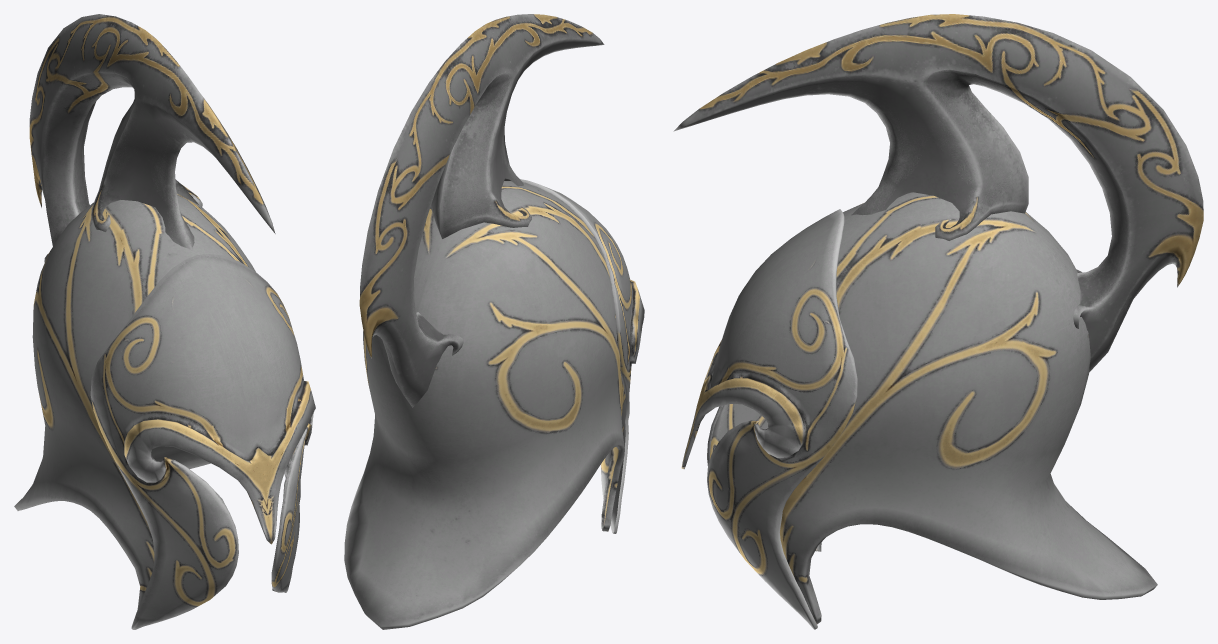
File: rivendell_helmet_cavalry_tier3_silvergold.fbx
The picture shows the model from 3 angles, left to right: view 1: azimuth 30°, elevation 25°; view 2: azimuth 150°, elevation 25°; view 3: azimuth 270°, elevation 25°; orthographic projection. The views are drawn at different scales.
Parts seen in each view (by area): view 1: rivendell_helmet_cavalry_tier3_silvergold.1, rivendell_helmet_cavalry_tier3_silvergold.0; view 2: rivendell_helmet_cavalry_tier3_silvergold.1, rivendell_helmet_cavalry_tier3_silvergold.0; view 3: rivendell_helmet_cavalry_tier3_silvergold.1, rivendell_helmet_cavalry_tier3_silvergold.0.
Part boxes in pixels (x1,y1,x2,y2): rivendell_helmet_cavalry_tier3_silvergold.1: (14,194,315,629); rivendell_helmet_cavalry_tier3_silvergold.0: (29,14,275,262); rivendell_helmet_cavalry_tier3_silvergold.1: (344,179,644,629); rivendell_helmet_cavalry_tier3_silvergold.0: (359,14,604,407); rivendell_helmet_cavalry_tier3_silvergold.1: (681,192,1157,629); rivendell_helmet_cavalry_tier3_silvergold.0: (673,14,1203,371).
Bounding box in the file's own units: 0.1912 × 0.3902 × 0.4673.
Materials: 2 (2 with a texture image).
